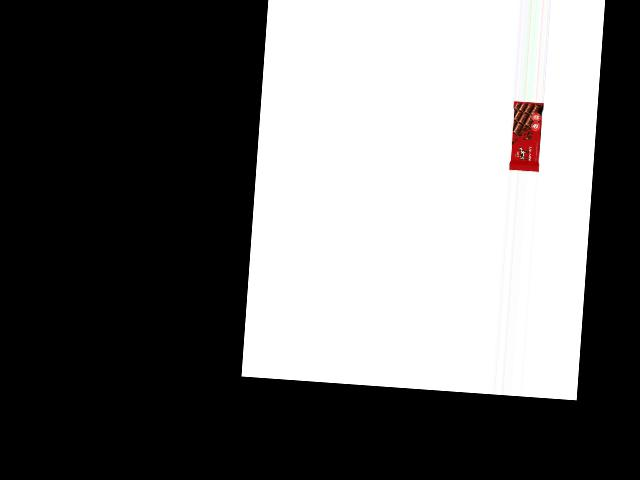chocolate: (509, 101, 544, 173)
